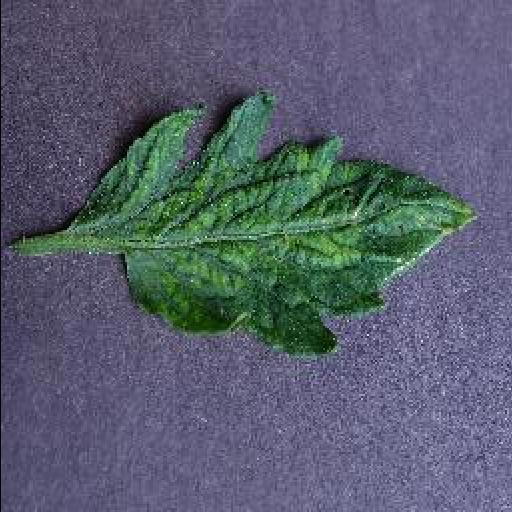Mosaic Virus: (80, 92, 480, 360)
